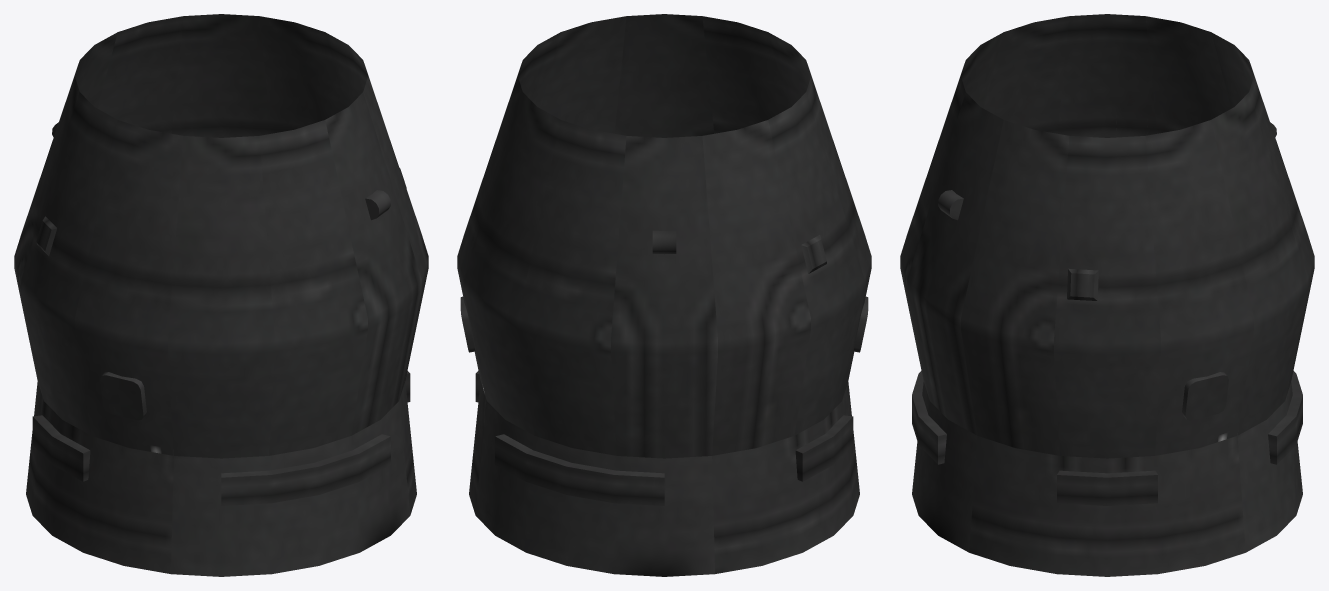
File: hamal_avionics_s1_1_blanket.obj
The picture shows the model from 3 angles, left to right: view 1: azimuth 30°, elevation 25°; view 2: azimuth 150°, elevation 25°; view 3: azimuth 270°, elevation 25°; orthographic projection.
Parts seen in each view (by area): view 1: 1; view 2: 1; view 3: 1.
Boxes of the visible parts, bbox=[...] form: 1: bbox=[14, 14, 428, 576]; 1: bbox=[457, 14, 871, 576]; 1: bbox=[900, 14, 1314, 576].
Bounding box in the file's own units: 1.33 × 1.48 × 1.33.
